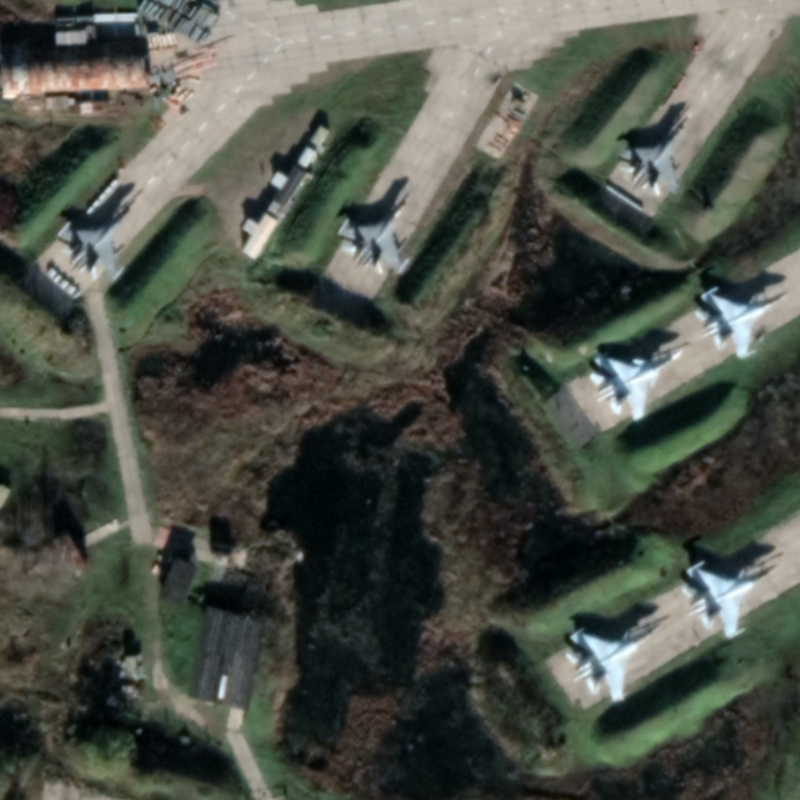A1: (563, 612, 673, 704), (56, 185, 146, 285), (681, 558, 783, 642), (693, 284, 794, 362), (335, 190, 413, 278), (617, 112, 692, 200)
A19: (587, 340, 691, 425)
